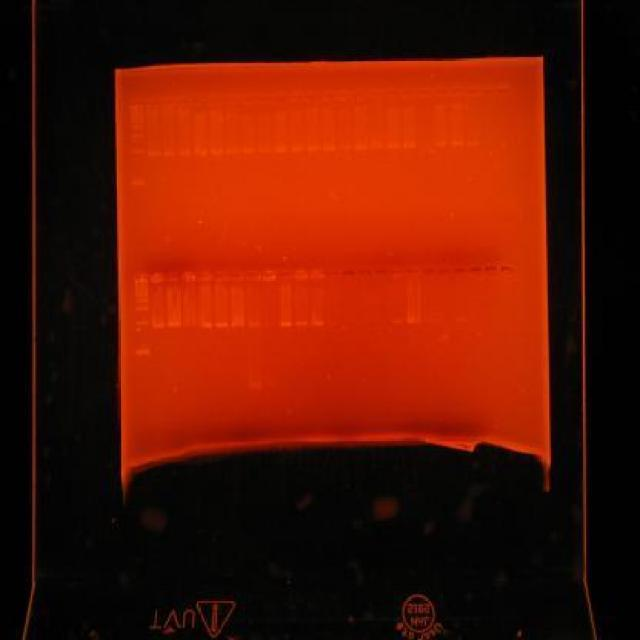B: (384, 140, 400, 151), (321, 142, 337, 153), (400, 140, 418, 149), (433, 138, 449, 148), (256, 144, 272, 154), (192, 148, 208, 157), (224, 147, 240, 156), (305, 144, 321, 153), (288, 144, 304, 153), (178, 148, 192, 158), (450, 138, 464, 148), (240, 146, 257, 154), (145, 150, 161, 158), (464, 138, 480, 146), (353, 142, 369, 150), (273, 146, 289, 154), (162, 150, 176, 158), (210, 149, 224, 157), (370, 142, 384, 150), (152, 322, 166, 329), (167, 321, 181, 328), (247, 321, 261, 328), (214, 322, 228, 328), (230, 322, 244, 328), (406, 318, 420, 324), (454, 316, 468, 322), (200, 322, 213, 328), (391, 318, 404, 324), (278, 322, 292, 326), (294, 322, 308, 326), (310, 322, 324, 326)
L: (128, 82, 514, 111), (131, 260, 517, 286)
M: (133, 286, 152, 360), (128, 115, 146, 192)
P: (134, 347, 150, 358), (130, 178, 144, 188), (130, 147, 144, 155), (136, 320, 150, 326), (136, 306, 150, 312), (136, 298, 150, 304), (130, 132, 144, 138), (130, 124, 144, 130), (136, 328, 150, 334)
Pc: (421, 264, 436, 278), (438, 264, 452, 278), (336, 90, 352, 102), (303, 91, 320, 102), (150, 271, 164, 284), (388, 267, 404, 278), (404, 266, 420, 277), (256, 94, 272, 105), (272, 93, 288, 104), (464, 86, 480, 97), (448, 86, 464, 97), (432, 86, 448, 97), (368, 89, 384, 100), (352, 89, 368, 100), (288, 92, 304, 103), (230, 270, 244, 282), (246, 270, 260, 282), (500, 264, 514, 276), (146, 98, 160, 110), (208, 94, 222, 106), (224, 94, 238, 106), (417, 87, 432, 98), (401, 88, 416, 99), (452, 266, 468, 276), (134, 273, 148, 284), (166, 272, 180, 283), (262, 270, 276, 281), (294, 269, 308, 280), (278, 270, 292, 281), (310, 269, 324, 280), (192, 95, 206, 106), (240, 94, 254, 105), (497, 85, 511, 96), (480, 86, 496, 95), (182, 272, 196, 282), (198, 272, 212, 282), (214, 272, 228, 282), (326, 268, 340, 278), (374, 268, 388, 278), (468, 266, 482, 276), (484, 266, 498, 276), (321, 93, 336, 102), (384, 90, 400, 98), (129, 99, 143, 108), (162, 99, 176, 108), (177, 97, 190, 106), (342, 270, 356, 278), (358, 269, 372, 277)
